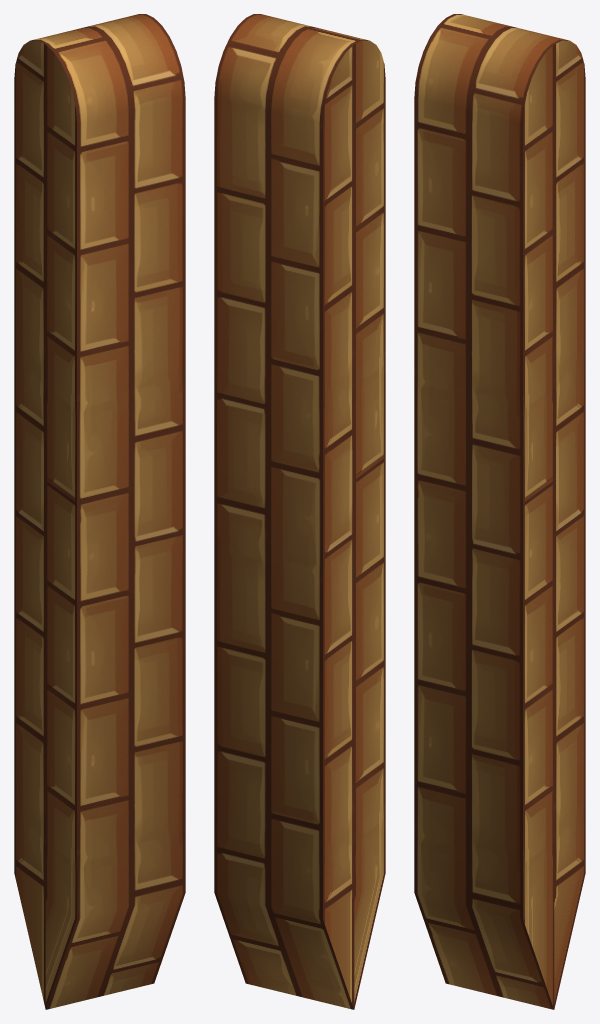
File: st015_goalholder.fbx
The picture shows the model from 3 angles, left to right: view 1: azimuth 30°, elevation 25°; view 2: azimuth 150°, elevation 25°; view 3: azimuth 330°, elevation 25°; orthographic projection.
Parts seen in each view (by area): view 1: Cube.004; view 2: Cube.004; view 3: Cube.004.
Part boxes in pixels (x1,y1,x2,y2): Cube.004: (14, 14, 185, 1009); Cube.004: (214, 14, 385, 1009); Cube.004: (414, 14, 585, 1009).
Size of the model in its own units: 100 by 850 by 100.
